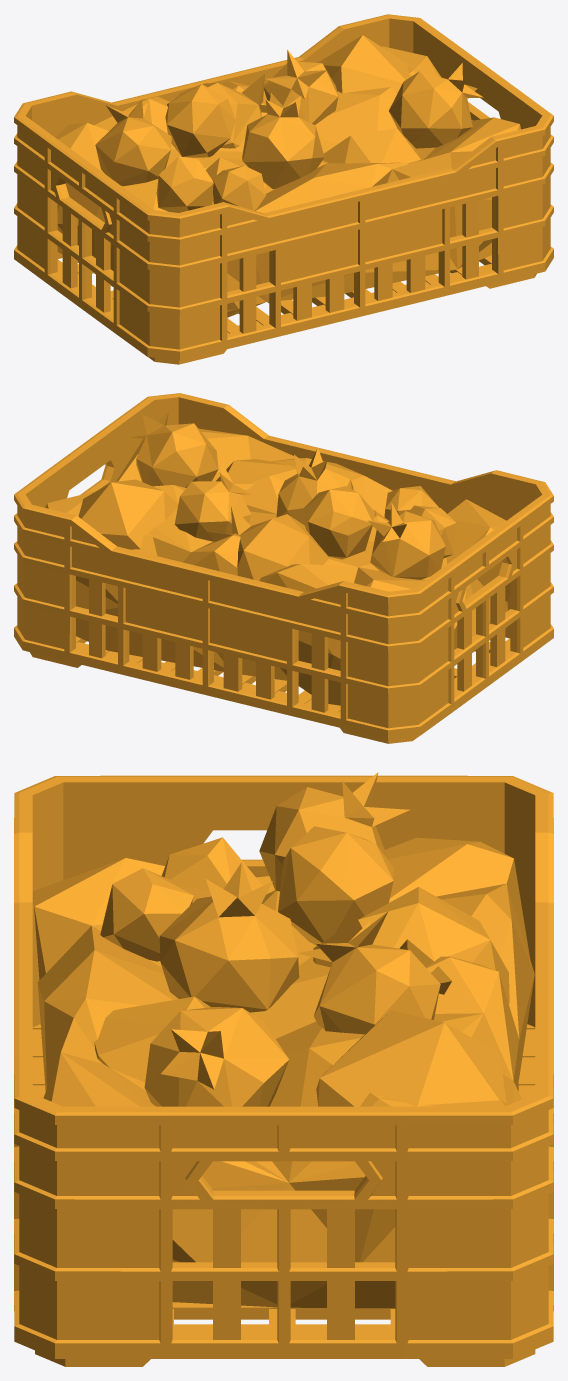
The model's file is SM_Crate_Plastic_Small_Tomatoes.fbx.
3 renders of one model, top to bottom at view 1: azimuth 30°, elevation 25°; view 2: azimuth 150°, elevation 25°; view 3: azimuth 270°, elevation 25°, orthographic. The views are drawn at different scales.
Visible parts, largest first — view 1: crate-plastic-small-tomatoes; view 2: crate-plastic-small-tomatoes; view 3: crate-plastic-small-tomatoes.
Part boxes in pixels (x1=…): crate-plastic-small-tomatoes: x1=14, y1=14, x2=553, y2=364; crate-plastic-small-tomatoes: x1=14, y1=393, x2=553, y2=743; crate-plastic-small-tomatoes: x1=14, y1=772, x2=553, y2=1366.
Bounding box in the file's own units: 0.6083 × 0.2691 × 0.4083.
